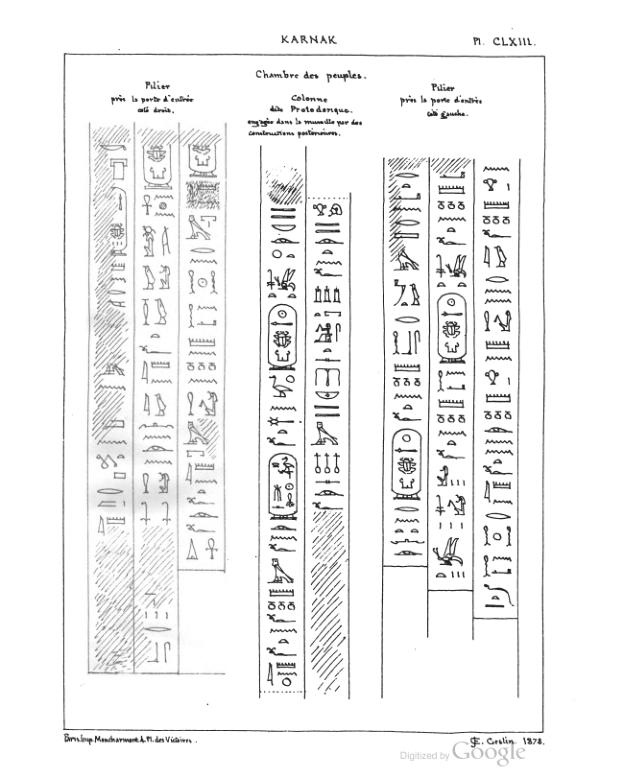circle: (389, 425, 424, 502), (435, 290, 470, 365), (266, 449, 301, 523), (265, 302, 299, 372), (100, 184, 131, 260), (139, 139, 174, 193), (184, 139, 220, 180)
